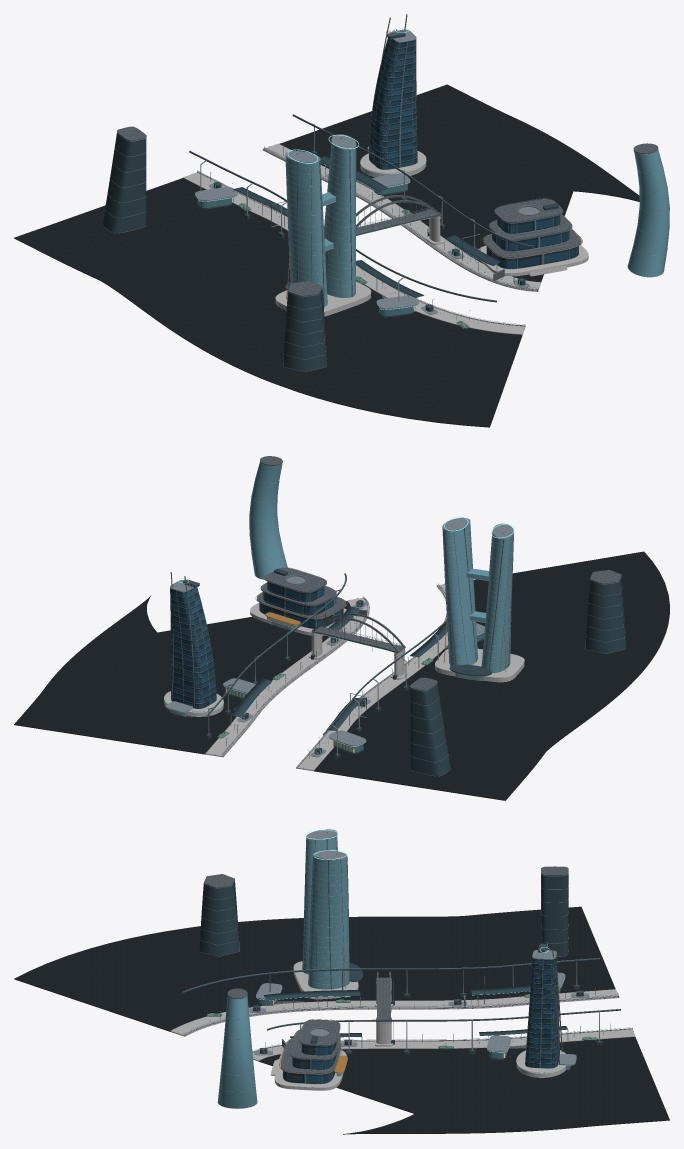
The model's file is waterfront.glb.
3 renders of one model, top to bottom at view 1: azimuth 30°, elevation 25°; view 2: azimuth 150°, elevation 25°; view 3: azimuth 270°, elevation 25°, orthographic. The views are drawn at different scales.
Parts seen in each view (by area): view 1: Sample_Graphite_plaza_paving, Sample_Silver_blue_glazing, Sample_Graphite_joint_seals, Sample_CC0_Concrete034, Sample_Coated_architectural_alloy, Sample_CC0_Metal032, Sample_Blue_laminated_glazing, Sample_Marina_teal_glazing, Sample_Recessed_lobby_glass; view 2: Sample_Graphite_plaza_paving, Sample_Silver_blue_glazing, Sample_Graphite_joint_seals, Sample_CC0_Concrete034, Sample_CC0_Metal032, Sample_Coated_architectural_alloy, Sample_Blue_laminated_glazing, Sample_Marina_teal_glazing, Sample_Recessed_lobby_glass, Sample_Amber_anodized_alloy; view 3: Sample_Graphite_plaza_paving, Sample_Silver_blue_glazing, Sample_Graphite_joint_seals, Sample_CC0_Concrete034, Sample_CC0_Metal032, Sample_Coated_architectural_alloy, Sample_Blue_laminated_glazing, Sample_Marina_teal_glazing.
Boxes of the visible parts, left/top/right/bottom form: Sample_Graphite_plaza_paving: left=14, top=84, right=639, bottom=427; Sample_Silver_blue_glazing: left=285, top=142, right=669, bottom=306; Sample_Graphite_joint_seals: left=102, top=31, right=558, bottom=371; Sample_CC0_Concrete034: left=183, top=143, right=588, bottom=335; Sample_Coated_architectural_alloy: left=117, top=14, right=658, bottom=326; Sample_CC0_Metal032: left=103, top=29, right=669, bottom=371; Sample_Blue_laminated_glazing: left=369, top=38, right=417, bottom=169; Sample_Marina_teal_glazing: left=486, top=215, right=578, bottom=268; Sample_Recessed_lobby_glass: left=197, top=183, right=413, bottom=315; Sample_Graphite_plaza_paving: left=14, top=551, right=669, bottom=800; Sample_Silver_blue_glazing: left=249, top=462, right=513, bottom=673; Sample_Graphite_joint_seals: left=183, top=568, right=625, bottom=776; Sample_CC0_Concrete034: left=164, top=584, right=524, bottom=771; Sample_CC0_Metal032: left=165, top=461, right=625, bottom=776; Sample_Coated_architectural_alloy: left=170, top=456, right=621, bottom=766; Sample_Blue_laminated_glazing: left=170, top=587, right=216, bottom=708; Sample_Marina_teal_glazing: left=259, top=581, right=343, bottom=628; Sample_Recessed_lobby_glass: left=170, top=617, right=484, bottom=752; Sample_Amber_anodized_alloy: left=170, top=524, right=506, bottom=752; Sample_Graphite_plaza_paving: left=14, top=906, right=669, bottom=1134; Sample_Silver_blue_glazing: left=218, top=834, right=349, bottom=1108; Sample_Graphite_joint_seals: left=182, top=874, right=620, bottom=1059; Sample_CC0_Concrete034: left=170, top=961, right=635, bottom=1090; Sample_CC0_Metal032: left=178, top=829, right=633, bottom=1108; Sample_Coated_architectural_alloy: left=184, top=835, right=632, bottom=1083; Sample_Blue_laminated_glazing: left=525, top=955, right=559, bottom=1068; Sample_Marina_teal_glazing: left=283, top=1038, right=338, bottom=1083.
Size of the model in its own units: 353 by 100 by 430.
13 materials, 6 textured.
